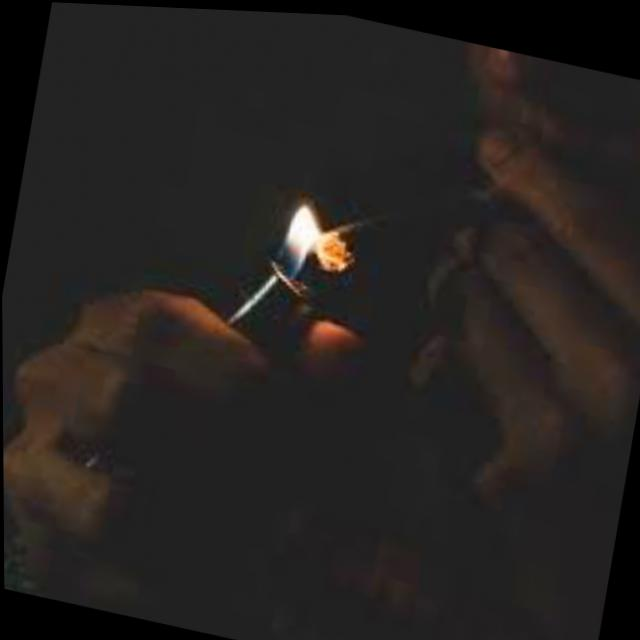fire: (263, 184, 334, 288)
